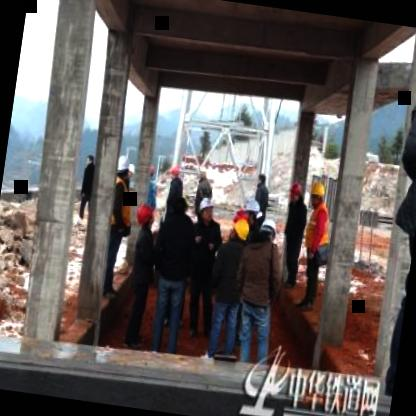head: (168, 192, 192, 220)
helmet: (256, 216, 280, 249), (132, 200, 158, 230), (226, 216, 251, 247), (195, 196, 218, 228), (112, 148, 133, 182), (307, 178, 328, 212), (242, 197, 262, 227), (287, 180, 304, 205)
